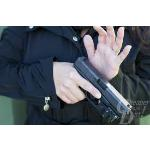Pistol: (66, 54, 132, 120)
